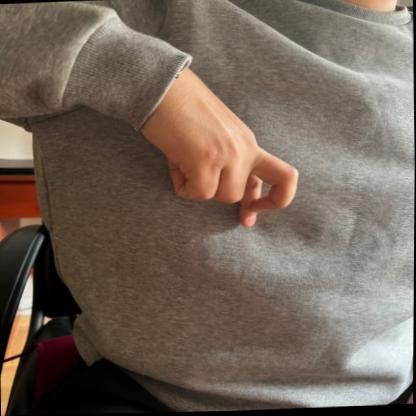P: (129, 49, 303, 236)
